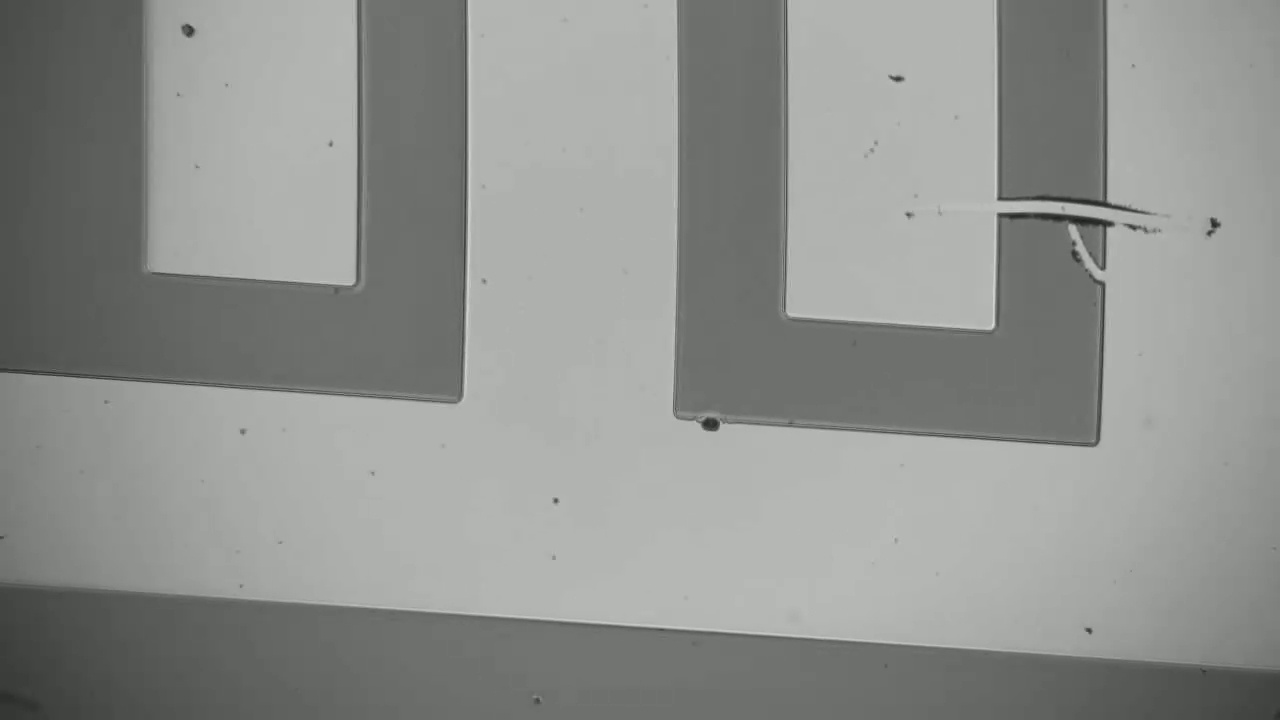Short_circuit: (969, 175, 1128, 240)
